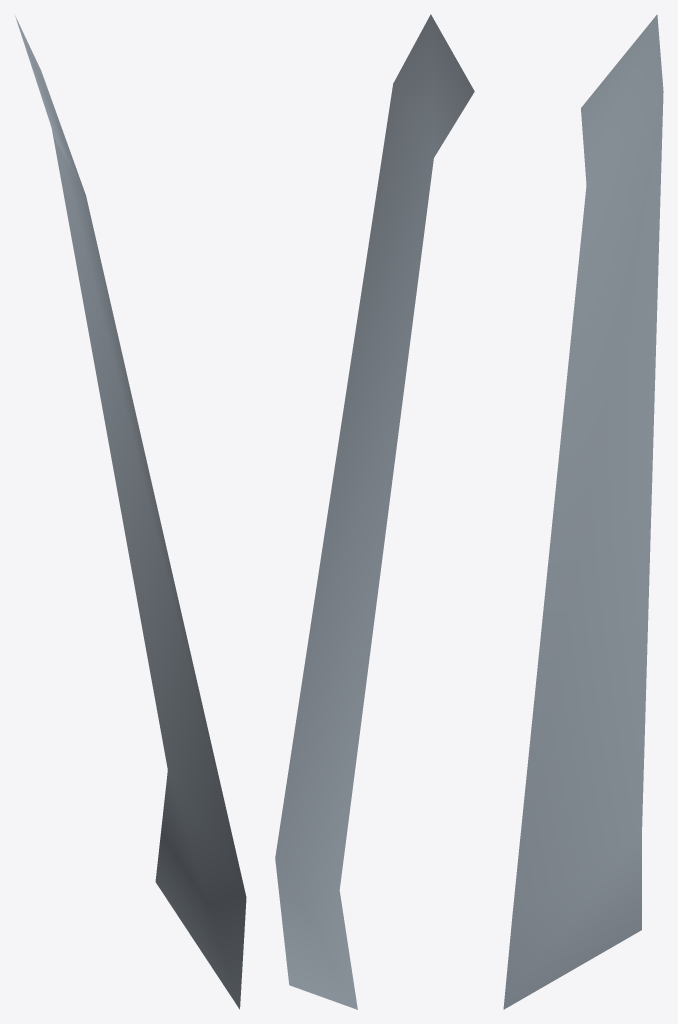
The model's file is fibular-collateral-ligament-l.glb.
3 renders of one model, left to right at view 1: azimuth 30°, elevation 25°; view 2: azimuth 150°, elevation 25°; view 3: azimuth 270°, elevation 25°, orthographic. The views are drawn at different scales.
Parts seen in each view (by area): view 1: Fibular collateral ligament.l; view 2: Fibular collateral ligament.l; view 3: Fibular collateral ligament.l.
Part boxes in pixels (x1,y1,x2,y2): Fibular collateral ligament.l: (15,15,246,1009); Fibular collateral ligament.l: (275,14,474,1009); Fibular collateral ligament.l: (503,14,663,1009).
Bounding box in the file's own units: 0.00882 × 0.0525 × 0.0082.
